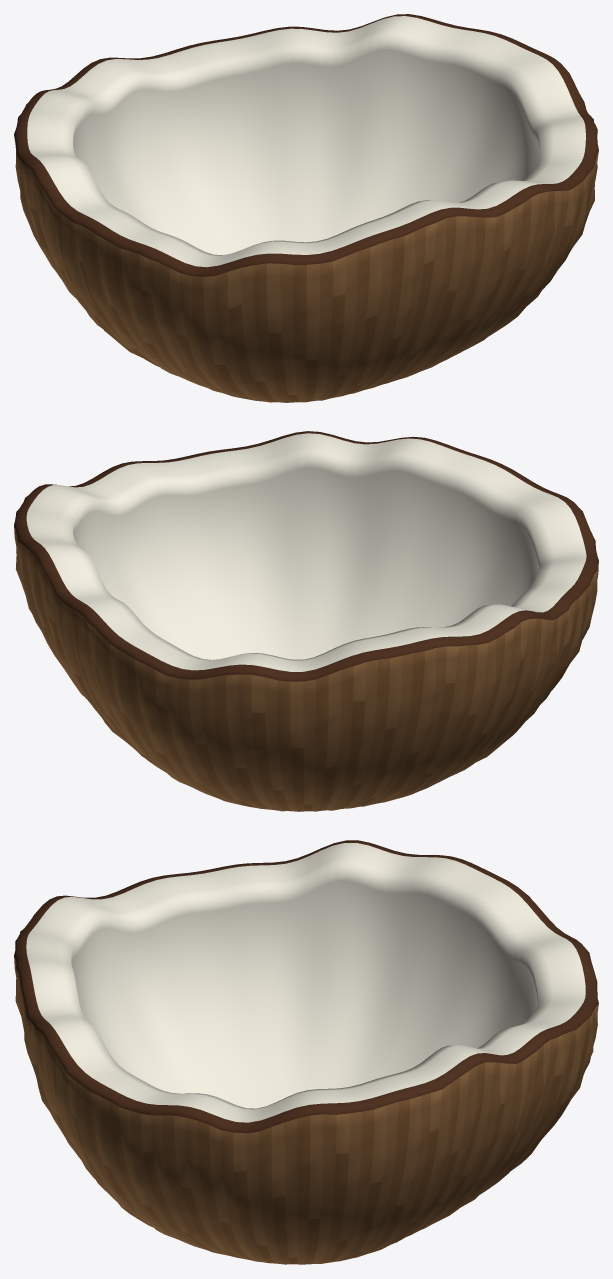
3 renders of one model, top to bottom at view 1: azimuth 30°, elevation 25°; view 2: azimuth 150°, elevation 25°; view 3: azimuth 270°, elevation 25°, orthographic. The views are drawn at different scales.
Visible parts, largest first — view 1: NEW310_Coconut_half_LOD0; view 2: NEW310_Coconut_half_LOD0; view 3: NEW310_Coconut_half_LOD0.
Boxes of the visible parts, x1,y1,x2,y2 form: NEW310_Coconut_half_LOD0: (14,14,598,402); NEW310_Coconut_half_LOD0: (14,431,598,811); NEW310_Coconut_half_LOD0: (14,840,598,1264).
Bounding box in the file's own units: 0.1626 × 0.0758 × 0.1505.
